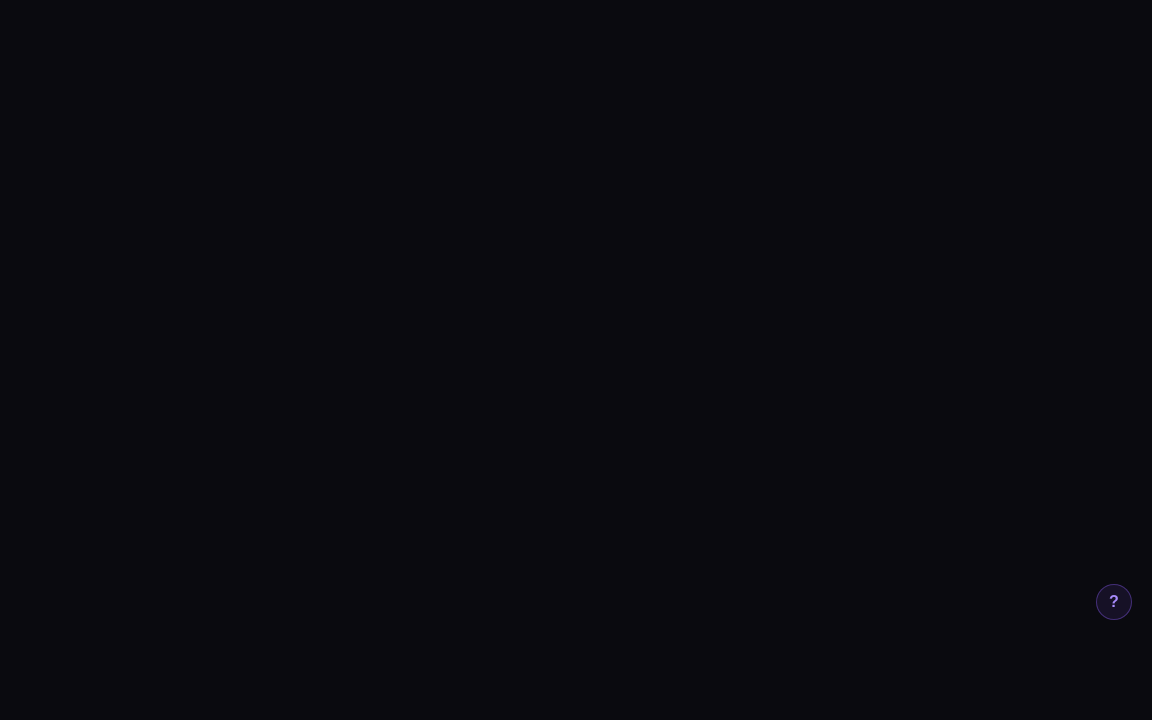
Scenario: HelpPanel › closes help panel on close button
The image size is (1152, 720).
What coordinates should you click on to do the following:
click the button named "Help"
I would click on:
 (1114, 602)
Its box is [1096,584,1132,620].
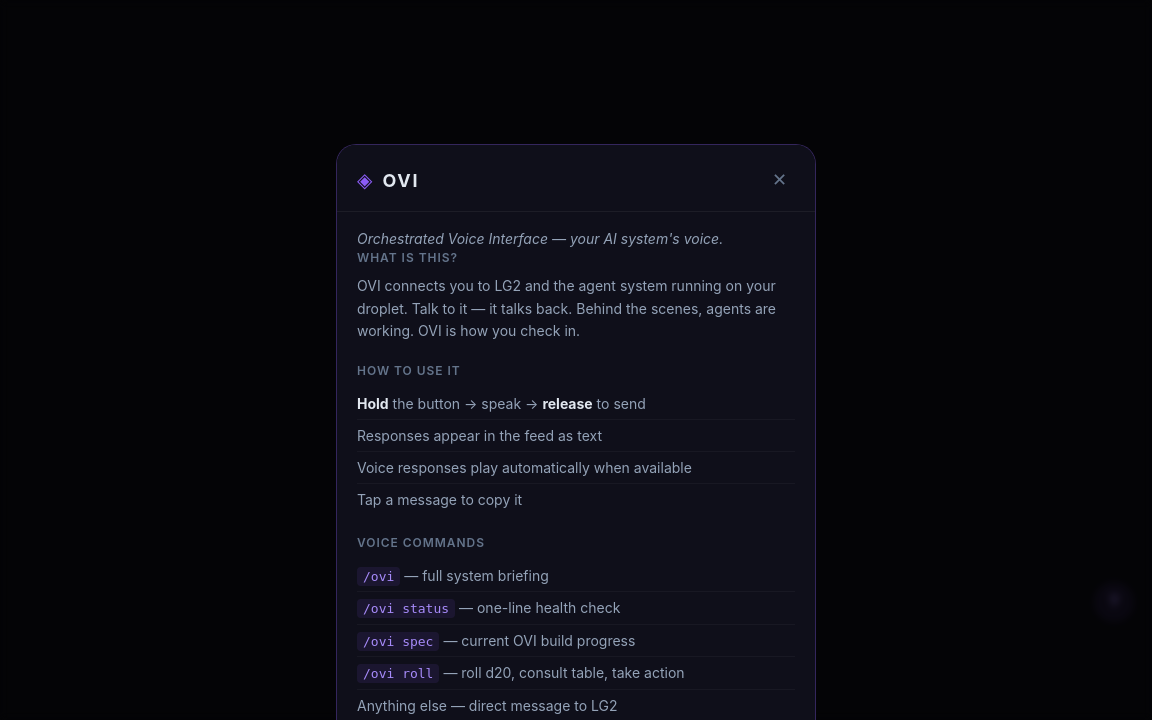
Expected: the heading "What is this?" is shown, [357,250,458,265]
What coordinates should you click on to do the following:
click the button "✕"
I would click on:
 (779, 180)
Its box is [764,165,795,195].
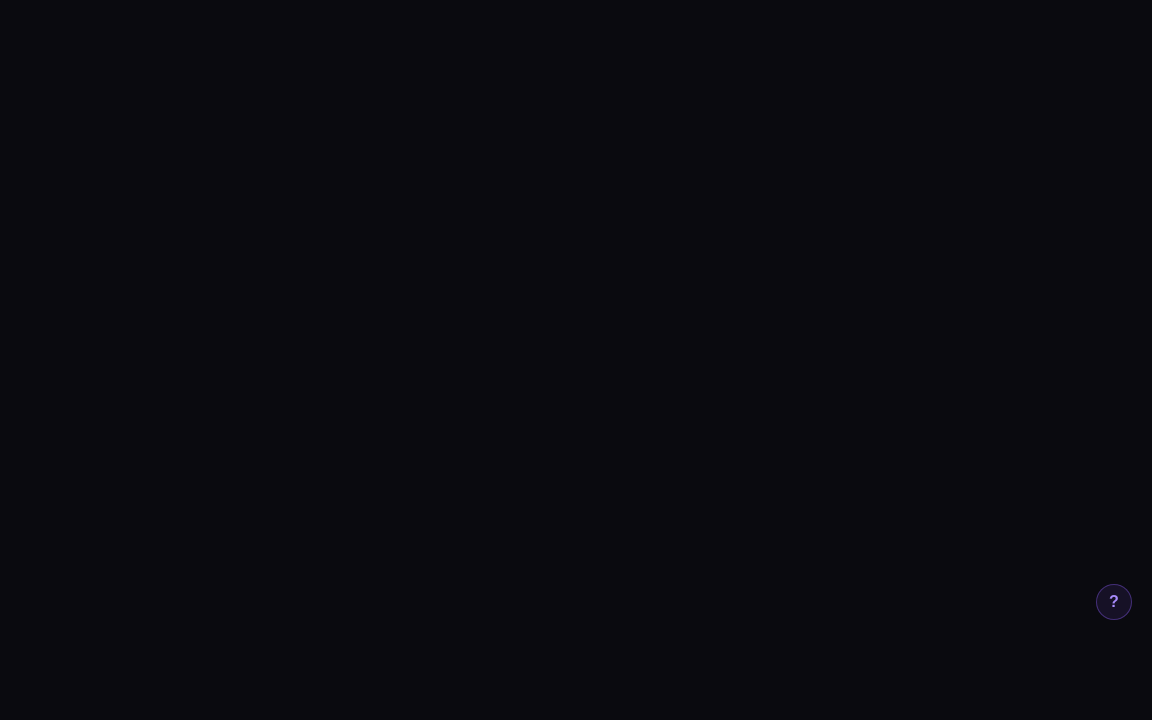
Expected: the heading "What is this?" is gone
